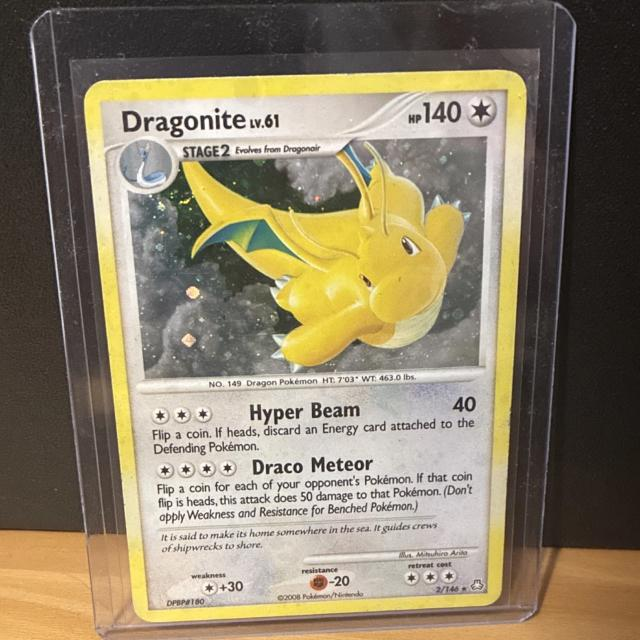Card: (80, 65, 530, 624)
Name: (117, 103, 249, 139)
